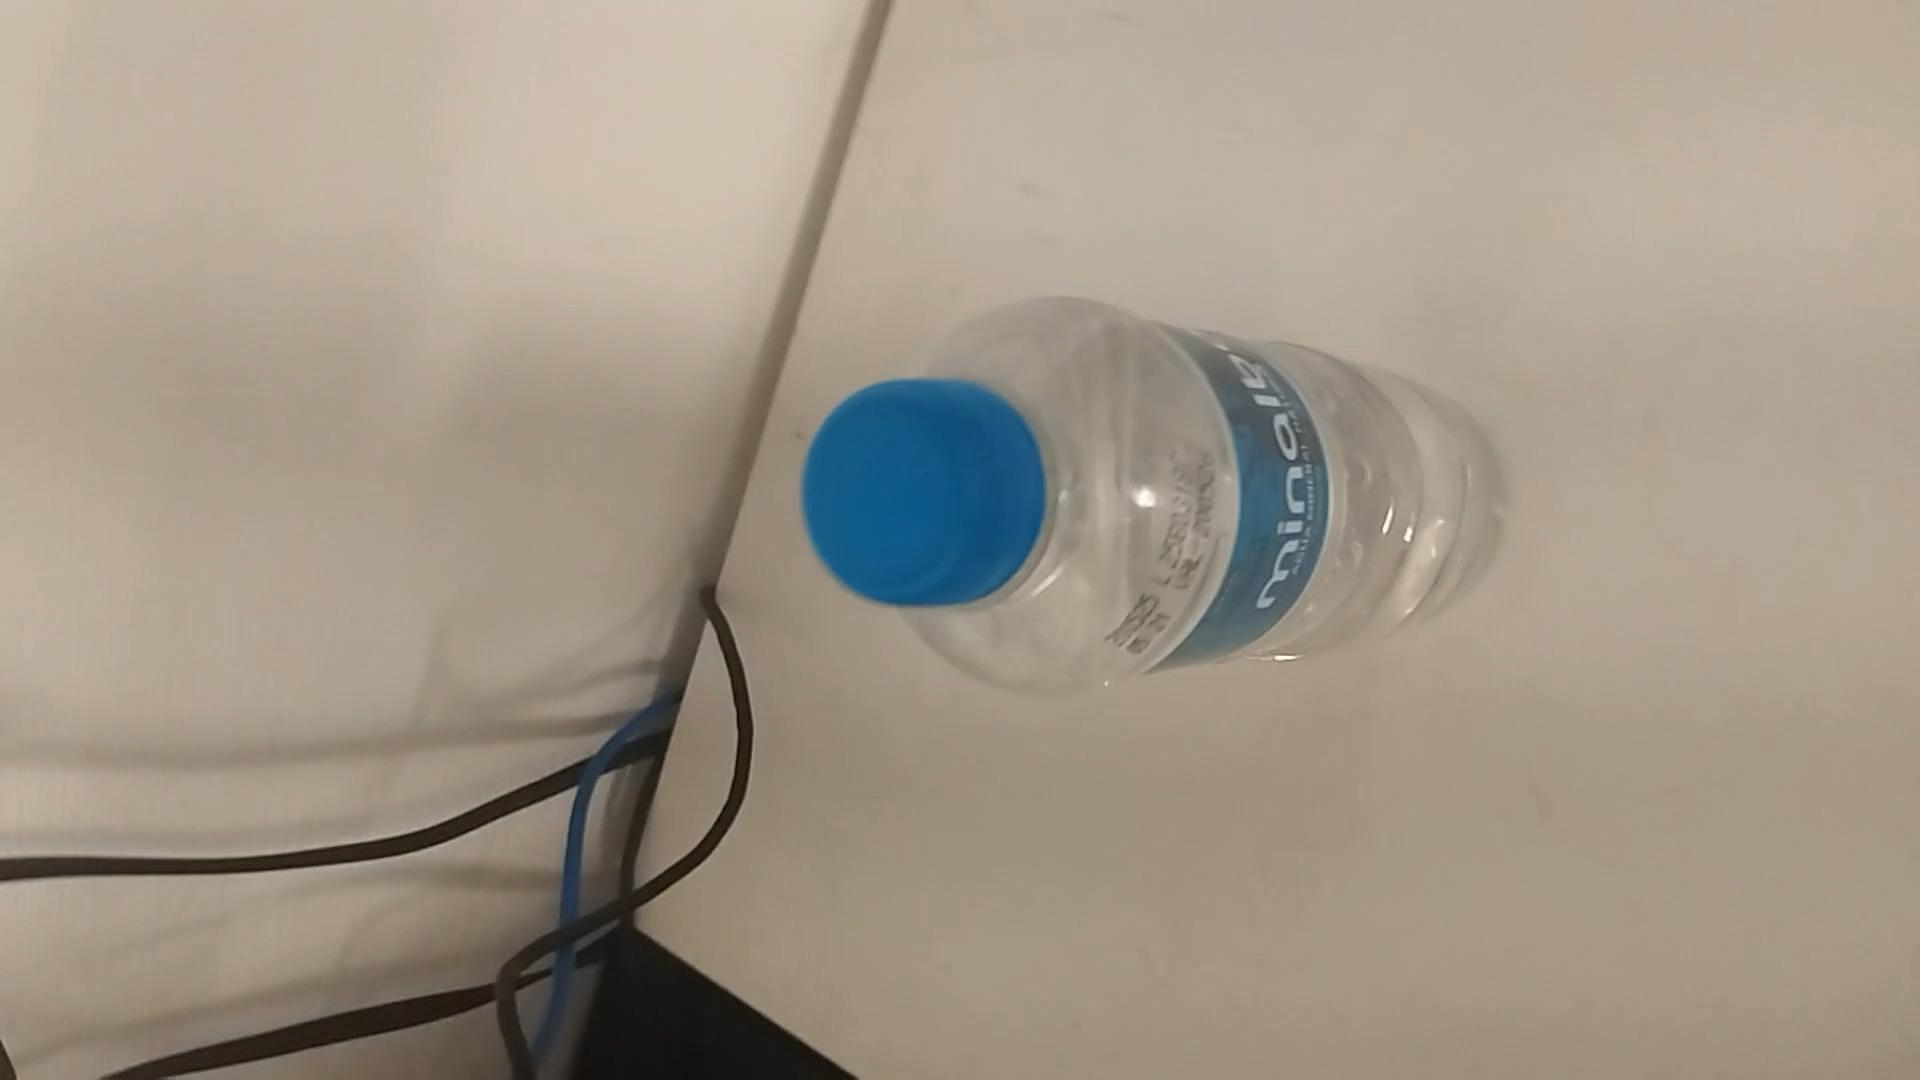agua: (812, 295, 1486, 688)
